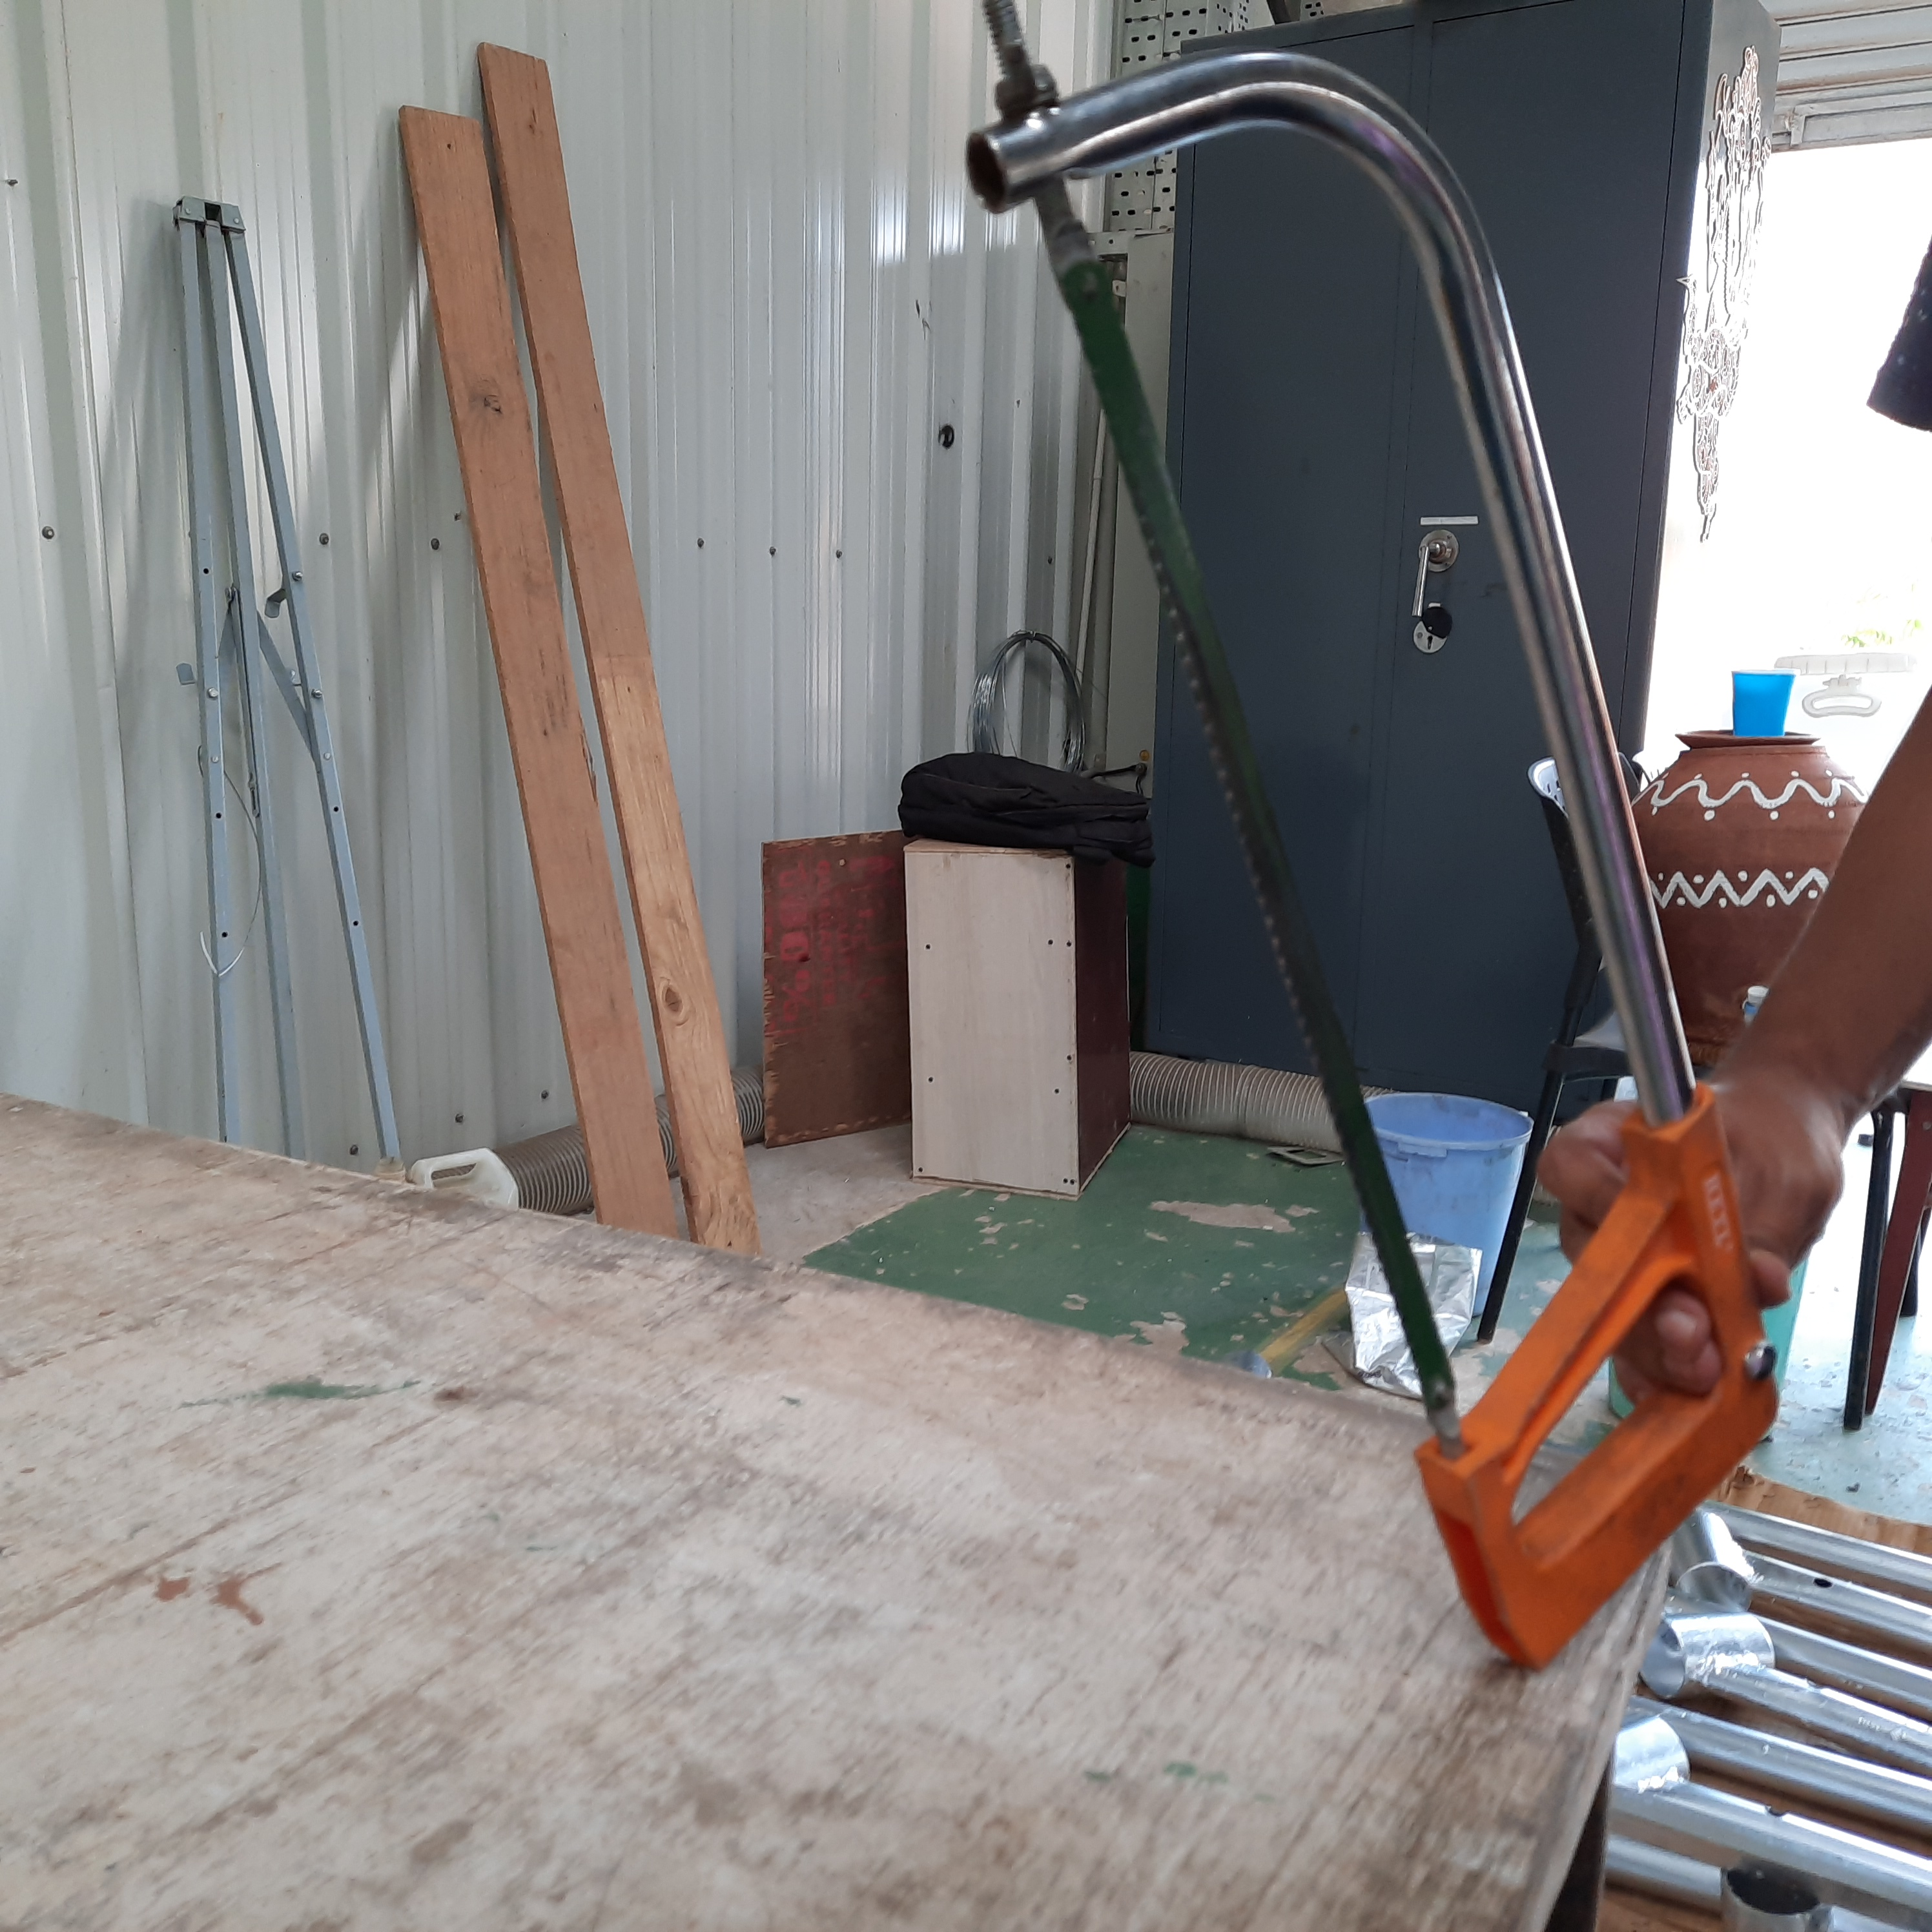Hexaframe: (950, 5, 1844, 1677)
